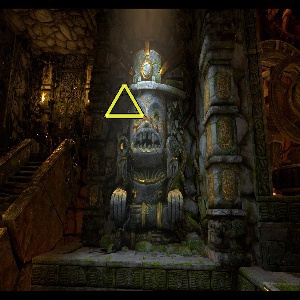triangle: (102, 80, 147, 122)
